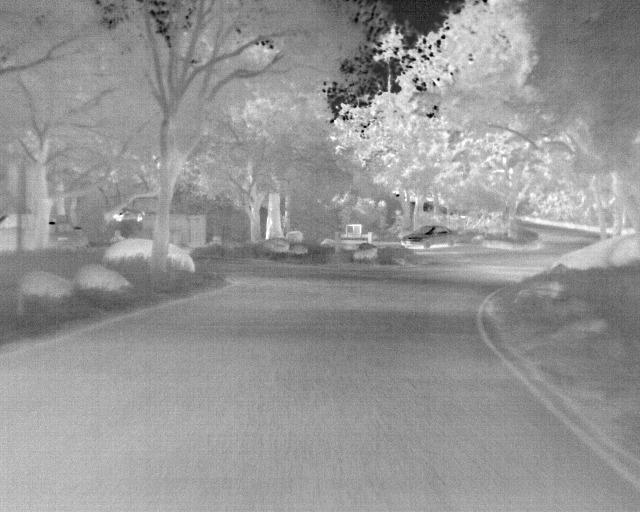car: (402, 224, 462, 251)
